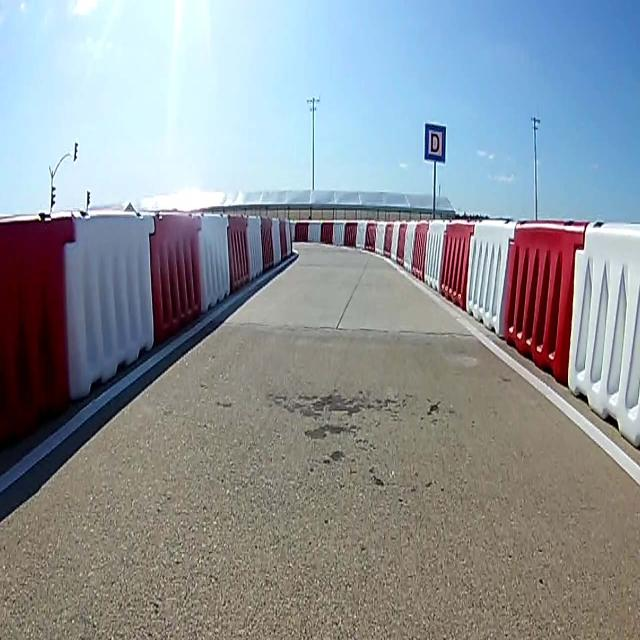durak: (424, 120, 448, 165)
